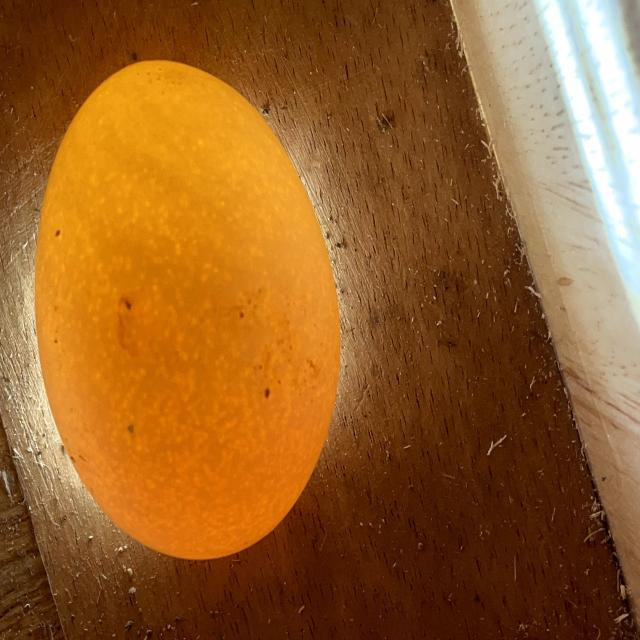infertile: (35, 62, 340, 558)
